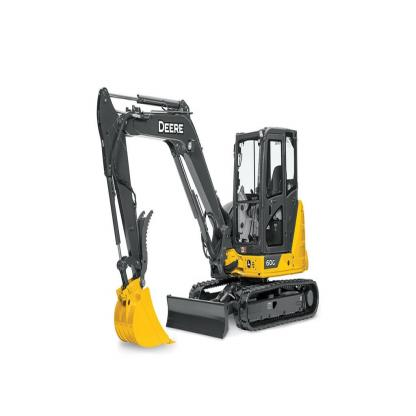excavator: (77, 74, 330, 364)
